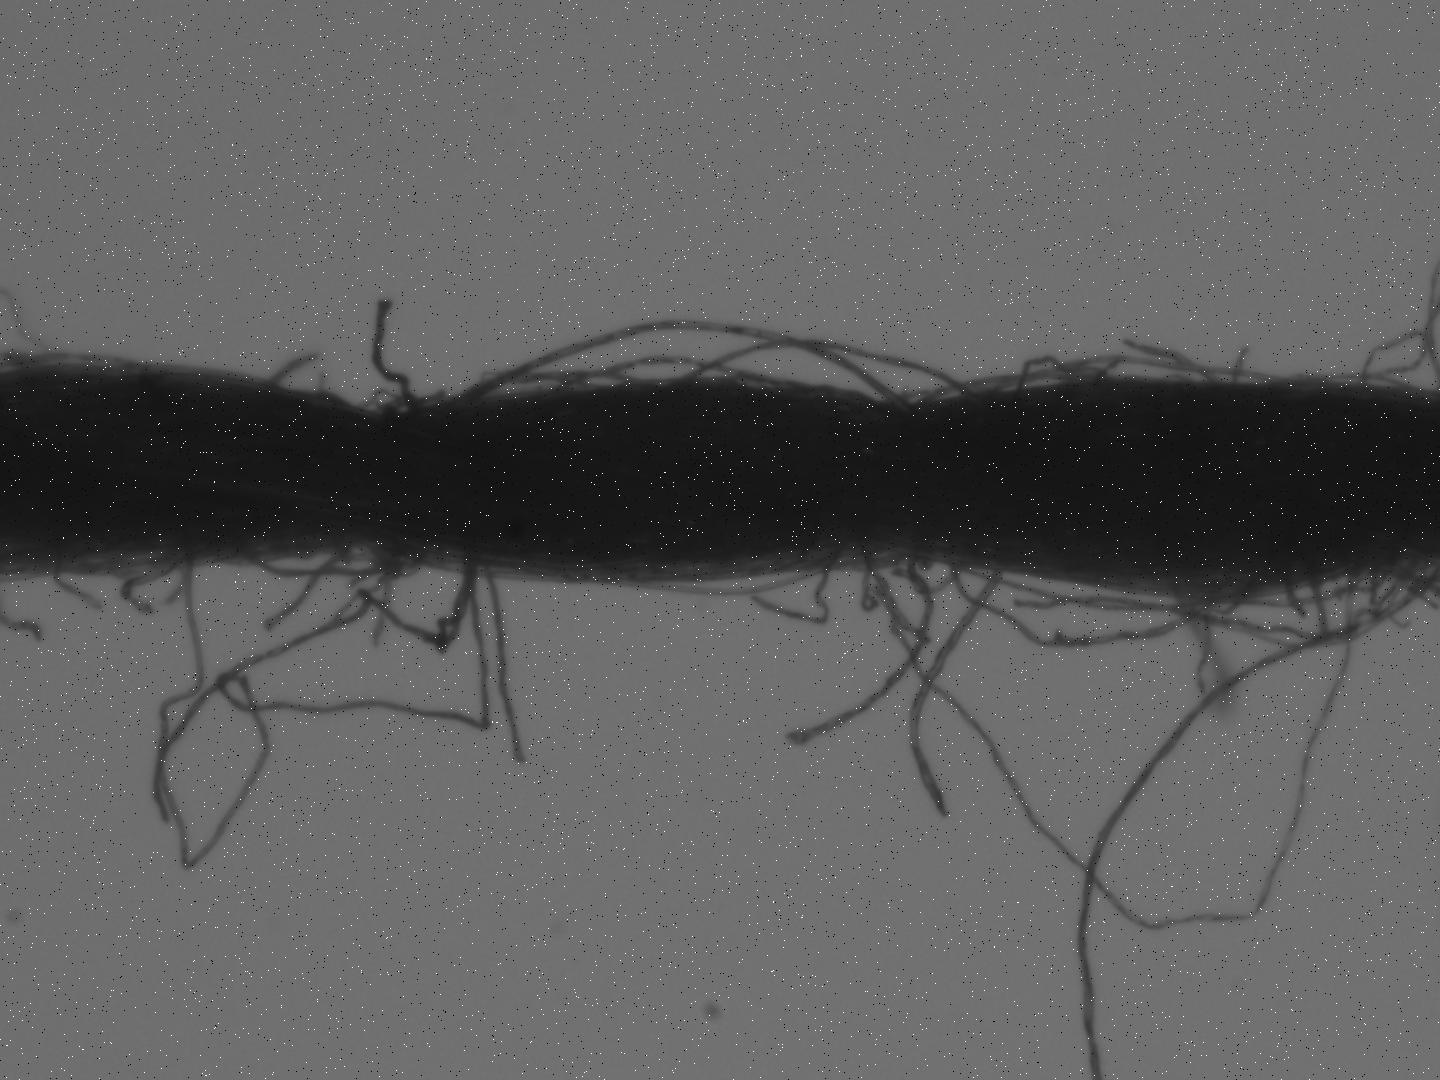loop_fiber: (150, 550, 495, 877), (942, 556, 1235, 652), (668, 334, 973, 413), (1176, 558, 1437, 644), (217, 529, 434, 585), (1243, 563, 1398, 610), (476, 363, 657, 402), (1361, 326, 1424, 394), (1016, 353, 1111, 396)
protruding_fiber: (903, 560, 1015, 825), (369, 296, 416, 415)
